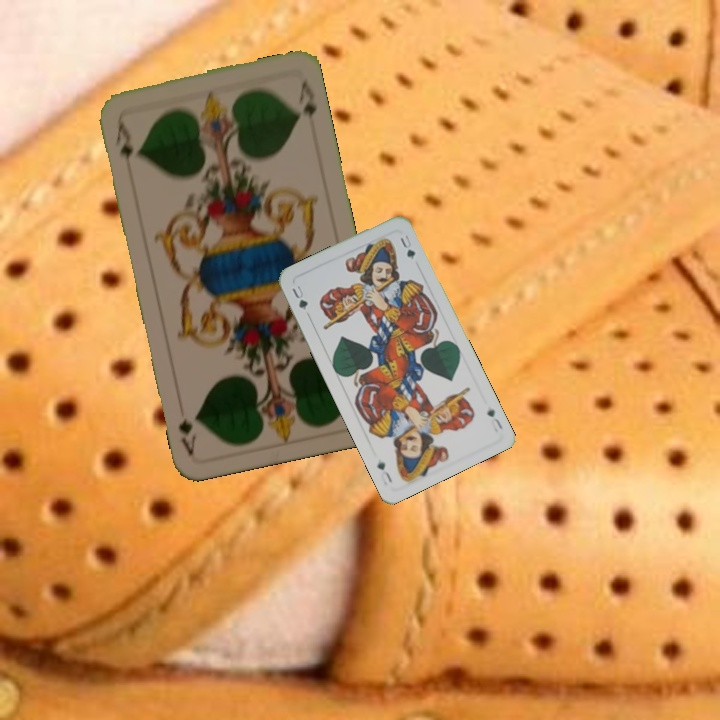GA: (110, 113, 136, 173)
GU: (288, 281, 310, 313), (483, 404, 505, 433)
